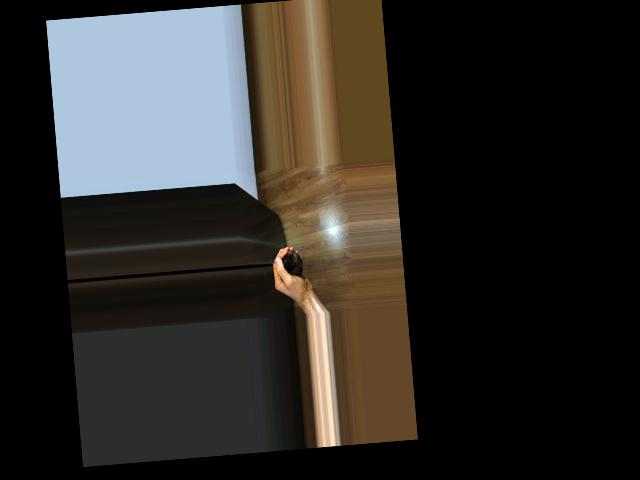beet: (262, 249, 303, 279)
